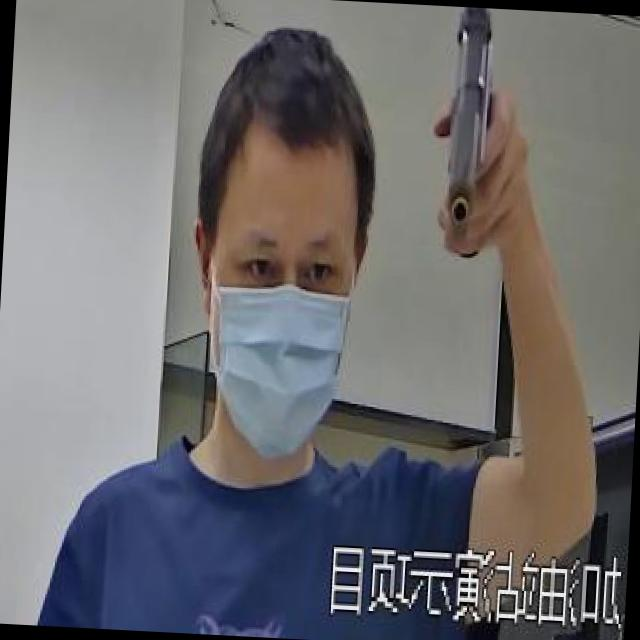Guns: (402, 5, 540, 286)
